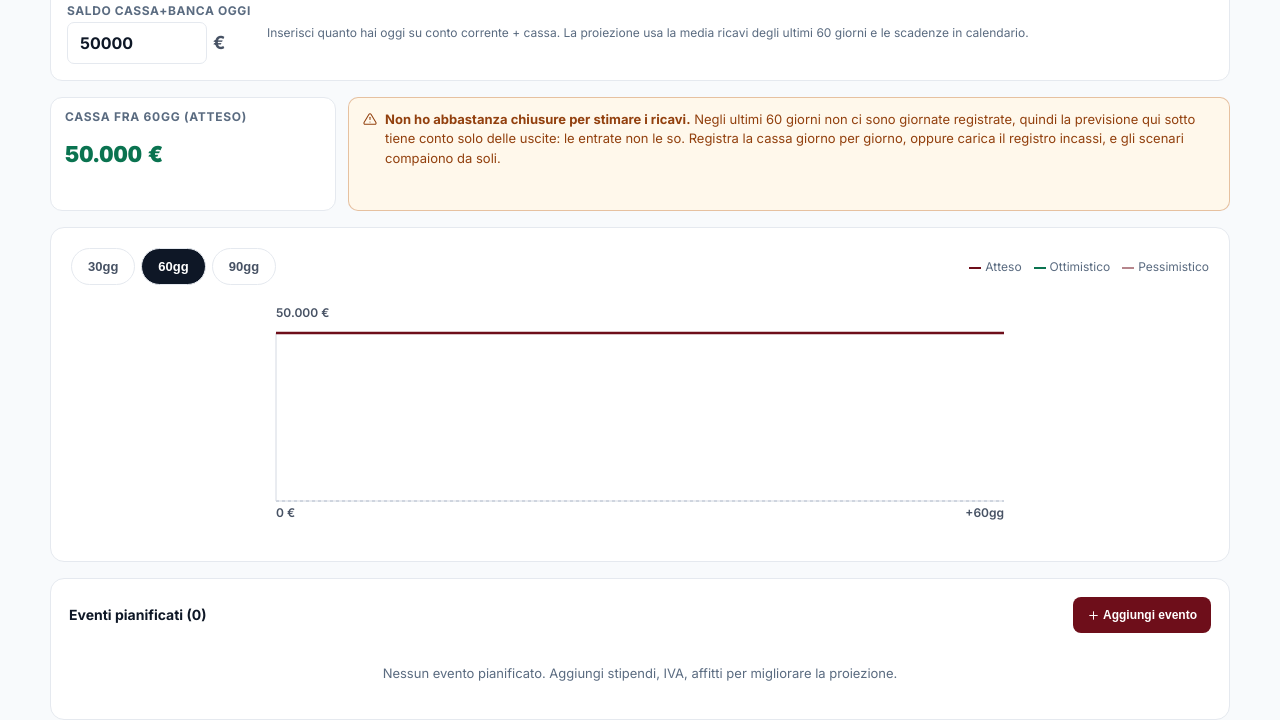
Test: l'importo di un evento legge all'italiana anche lui › il campo dell'importo non è `type="number"`
(page scrolled)
Click the button "Aggiungi evento": (1142, 615) [1073,597,1211,633]
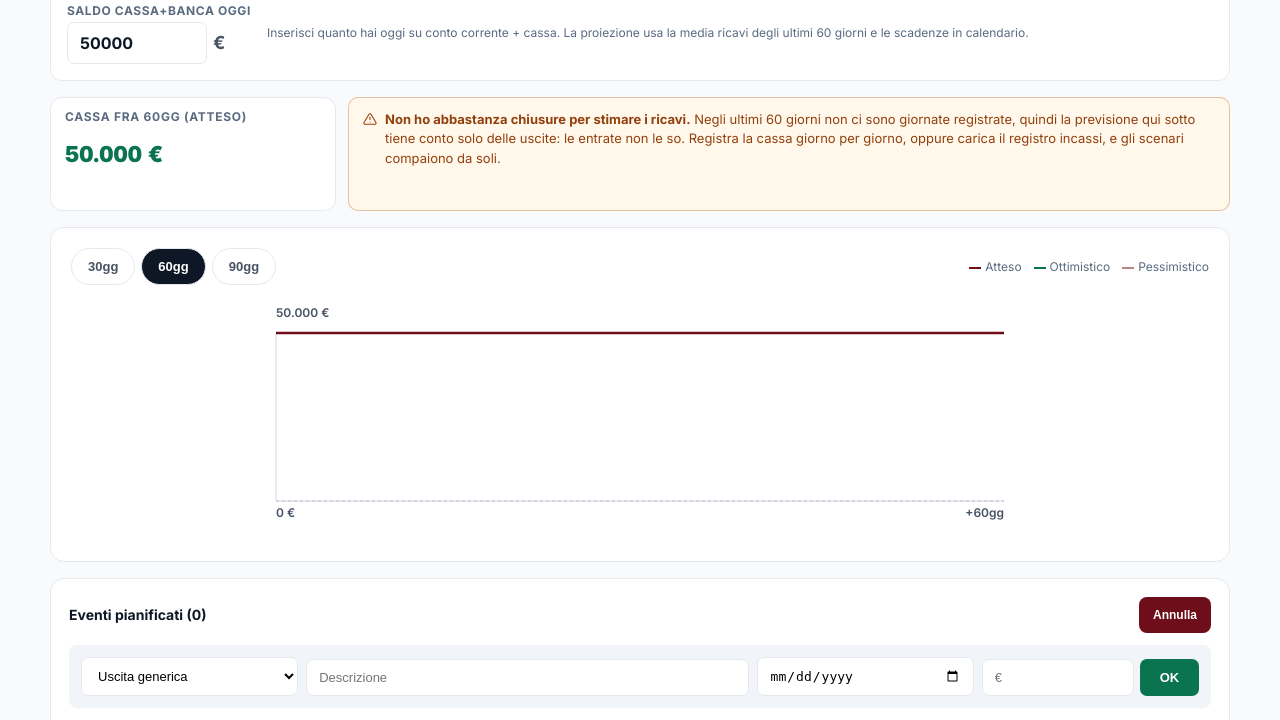
Now the field named "Importo in euro" is shown, box [982,659,1134,696]
